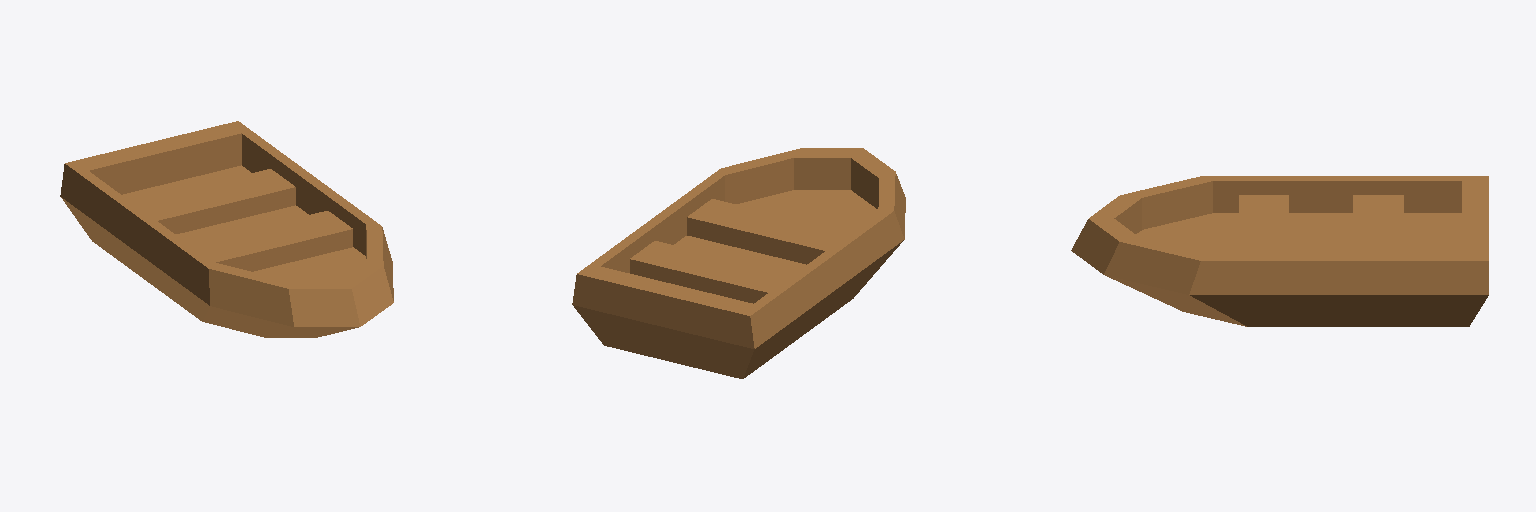
Rendered from watercraftPack_029.obj.
3 views of the same model, side by side, from view 1: azimuth 30°, elevation 25°; view 2: azimuth 150°, elevation 25°; view 3: azimuth 270°, elevation 25° (orthographic).
Parts seen in each view (by area): view 1: Mesh1 Group1 Model; view 2: Mesh1 Group1 Model; view 3: Mesh1 Group1 Model.
Boxes of the visible parts, <box> form: Mesh1 Group1 Model: <box>60,121,393,337</box>; Mesh1 Group1 Model: <box>572,148,905,378</box>; Mesh1 Group1 Model: <box>1071,176,1488,326</box>.
Size of the model in its own units: 1.78 by 0.7 by 3.55.